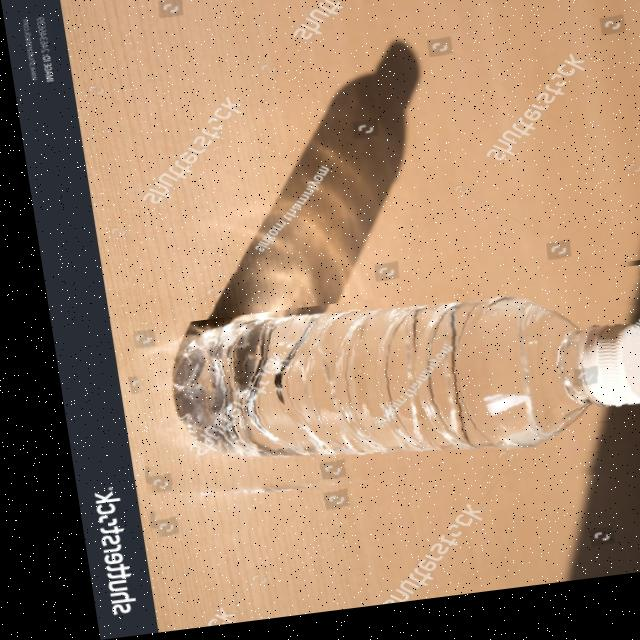litter: (110, 278, 640, 541)
